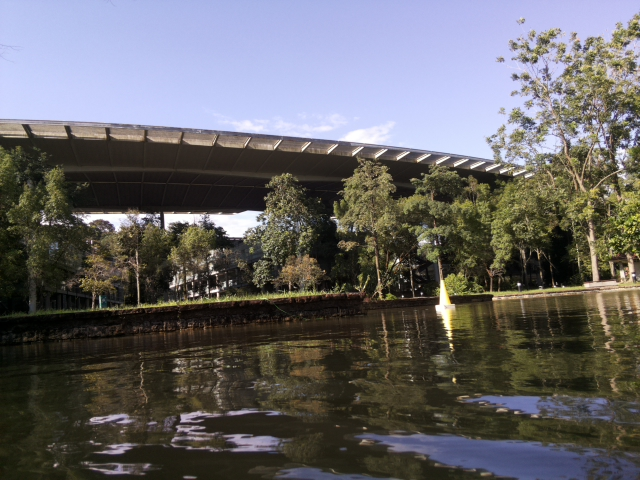checkpoint: (436, 279, 456, 311)
